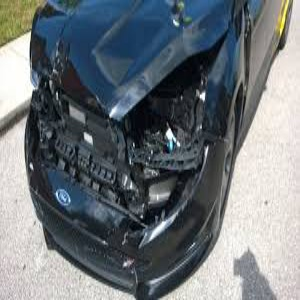bumper: (76, 155, 229, 300)
